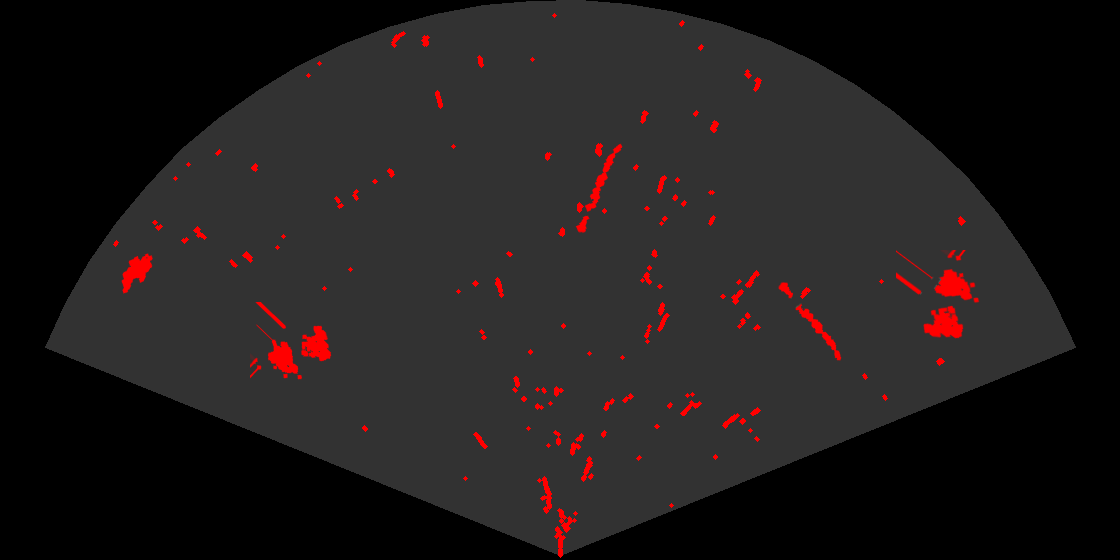AUV: (120, 252, 154, 295)
cage: (896, 250, 981, 340), (250, 302, 333, 381)
chain: (777, 281, 843, 362), (574, 142, 624, 235)
